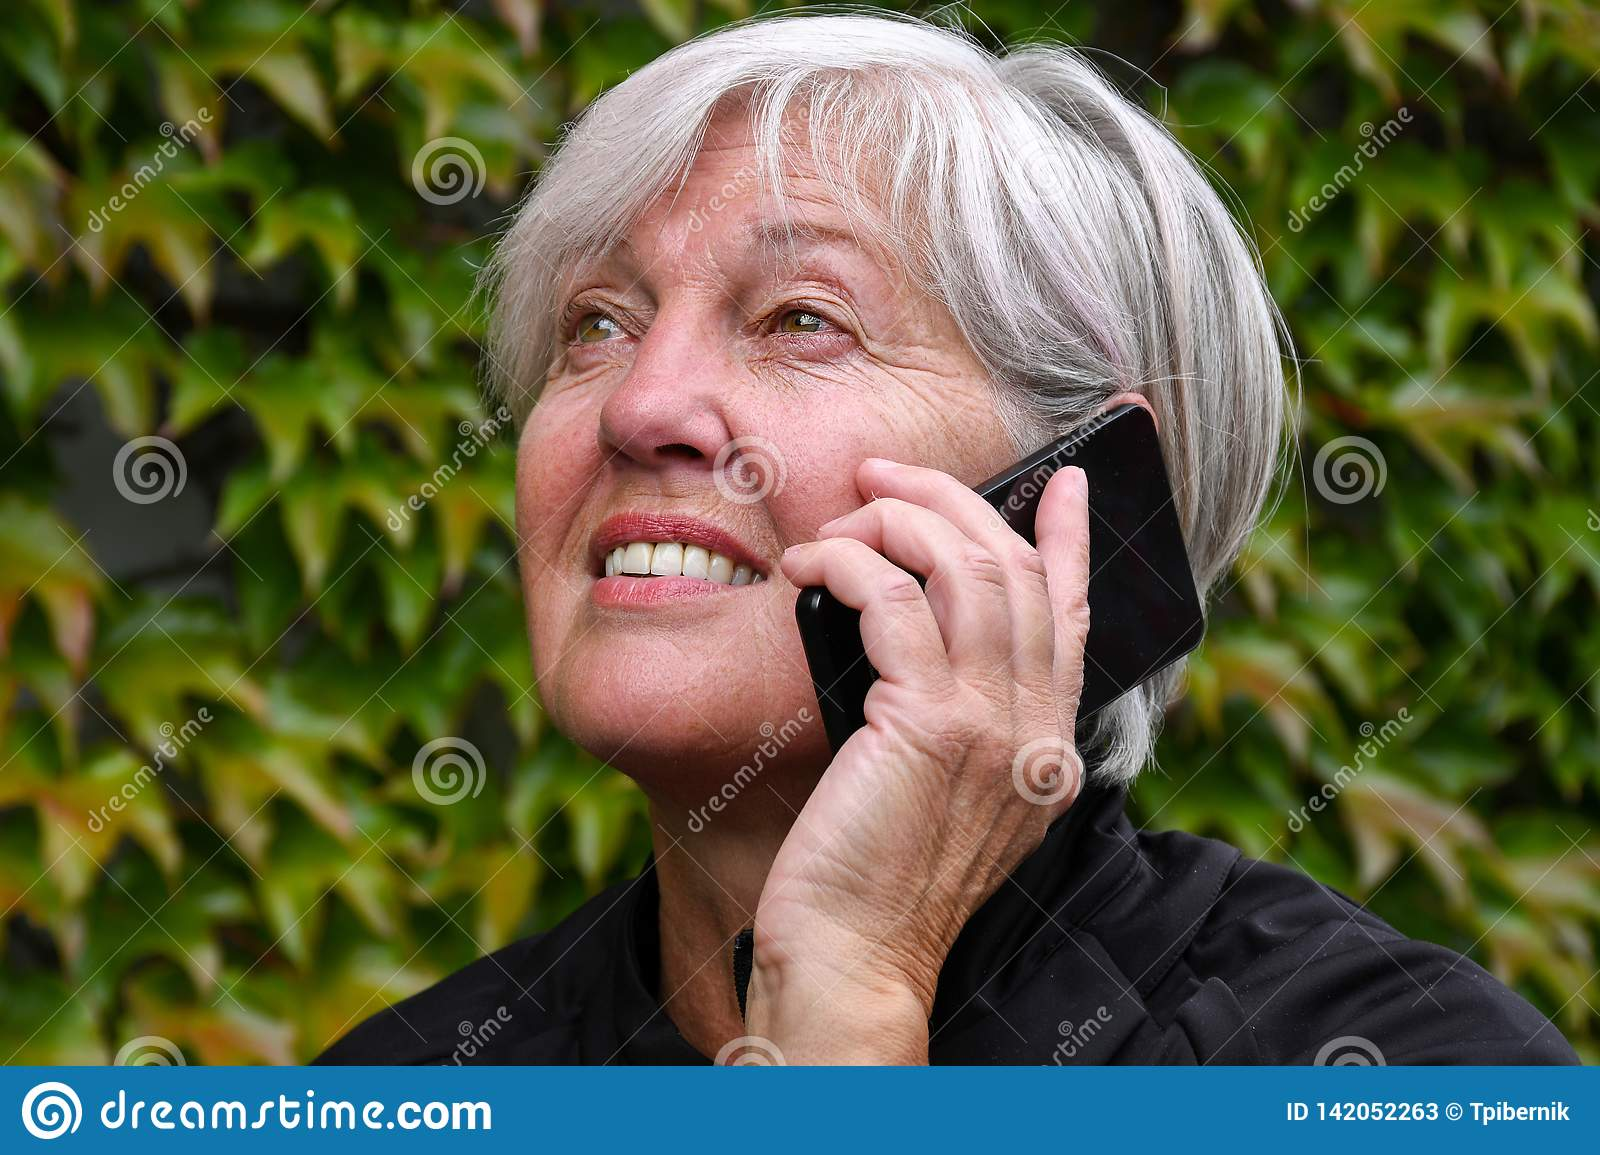phone: (798, 402, 1204, 787)
talk: (509, 214, 1212, 1064)
